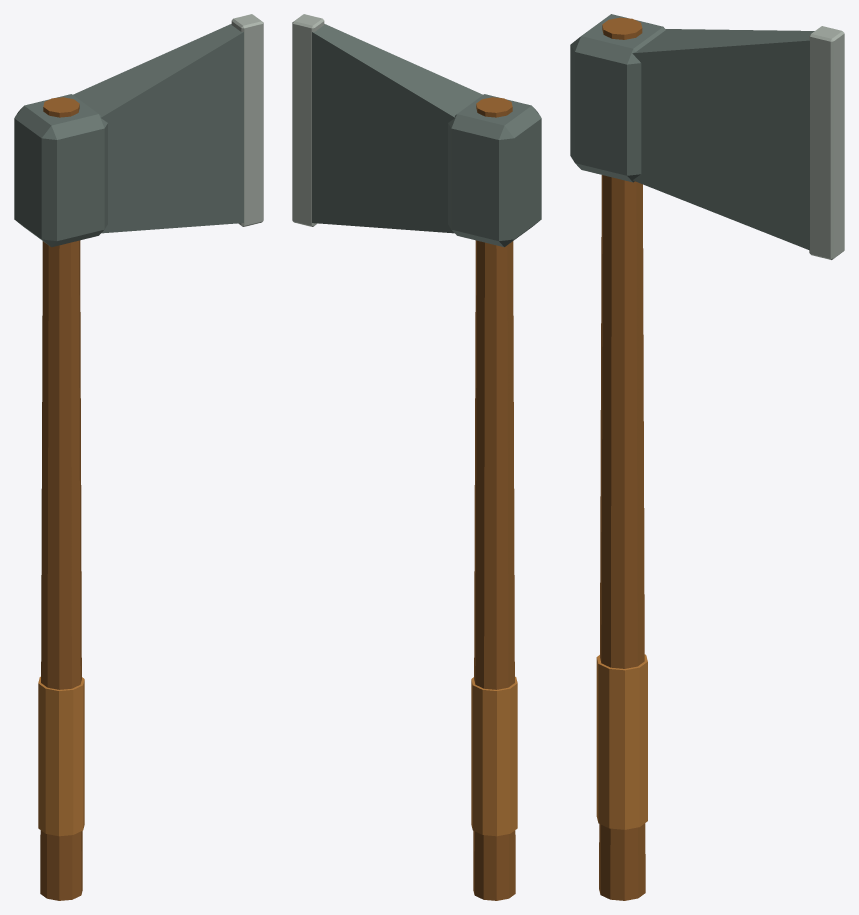
Rendered from axe_prototype_v01.glb.
3 views of the same model, side by side, from view 1: azimuth 30°, elevation 25°; view 2: azimuth 150°, elevation 25°; view 3: azimuth 330°, elevation 25° (orthographic). The views are drawn at different scales.
Visible parts, largest first — view 1: Axe forged blade.004, Axe ash handle.004, Axe socket.004, Axe grip wrap.004, Axe honed edge.004; view 2: Axe forged blade.004, Axe ash handle.004, Axe socket.004, Axe grip wrap.004, Axe honed edge.004; view 3: Axe forged blade.004, Axe ash handle.004, Axe socket.004, Axe grip wrap.004, Axe honed edge.004.
Part boxes in pixels (<box>): Axe forged blade.004: <box>73,24,243,233</box>; Axe ash handle.004: <box>40,97,82,900</box>; Axe socket.004: <box>14,94,107,247</box>; Axe grip wrap.004: <box>38,676,84,836</box>; Axe honed edge.004: <box>231,14,263,226</box>; Axe forged blade.004: <box>312,24,482,233</box>; Axe ash handle.004: <box>473,97,515,900</box>; Axe socket.004: <box>448,94,541,247</box>; Axe grip wrap.004: <box>471,676,517,836</box>; Axe honed edge.004: <box>292,14,324,226</box>; Axe forged blade.004: <box>632,29,814,250</box>; Axe ash handle.004: <box>599,17,645,900</box>; Axe socket.004: <box>570,14,665,182</box>; Axe grip wrap.004: <box>596,654,647,829</box>; Axe honed edge.004: <box>809,26,844,259</box>.
Size of the model in its own units: 0.258 by 0.8825 by 0.075.
